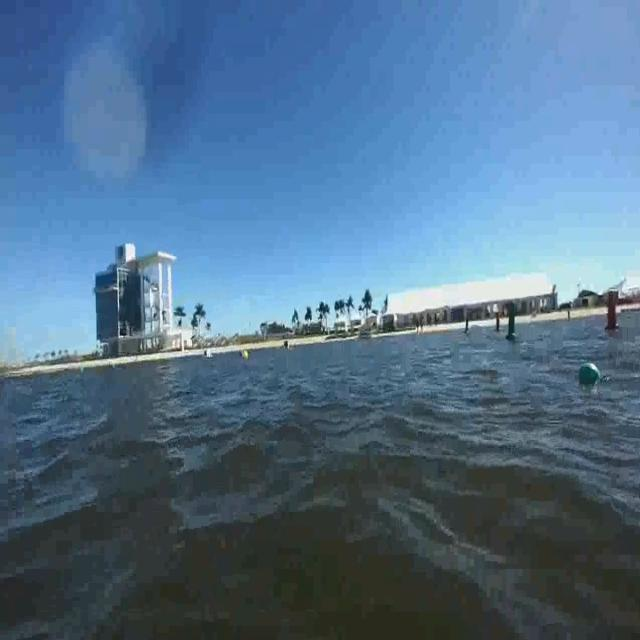green-buoy: (578, 363, 598, 383)
green-column-buoy: (504, 301, 518, 340)
red-column-buoy: (602, 288, 621, 333), (495, 308, 502, 332)
yellow-buoy: (243, 349, 250, 361)
